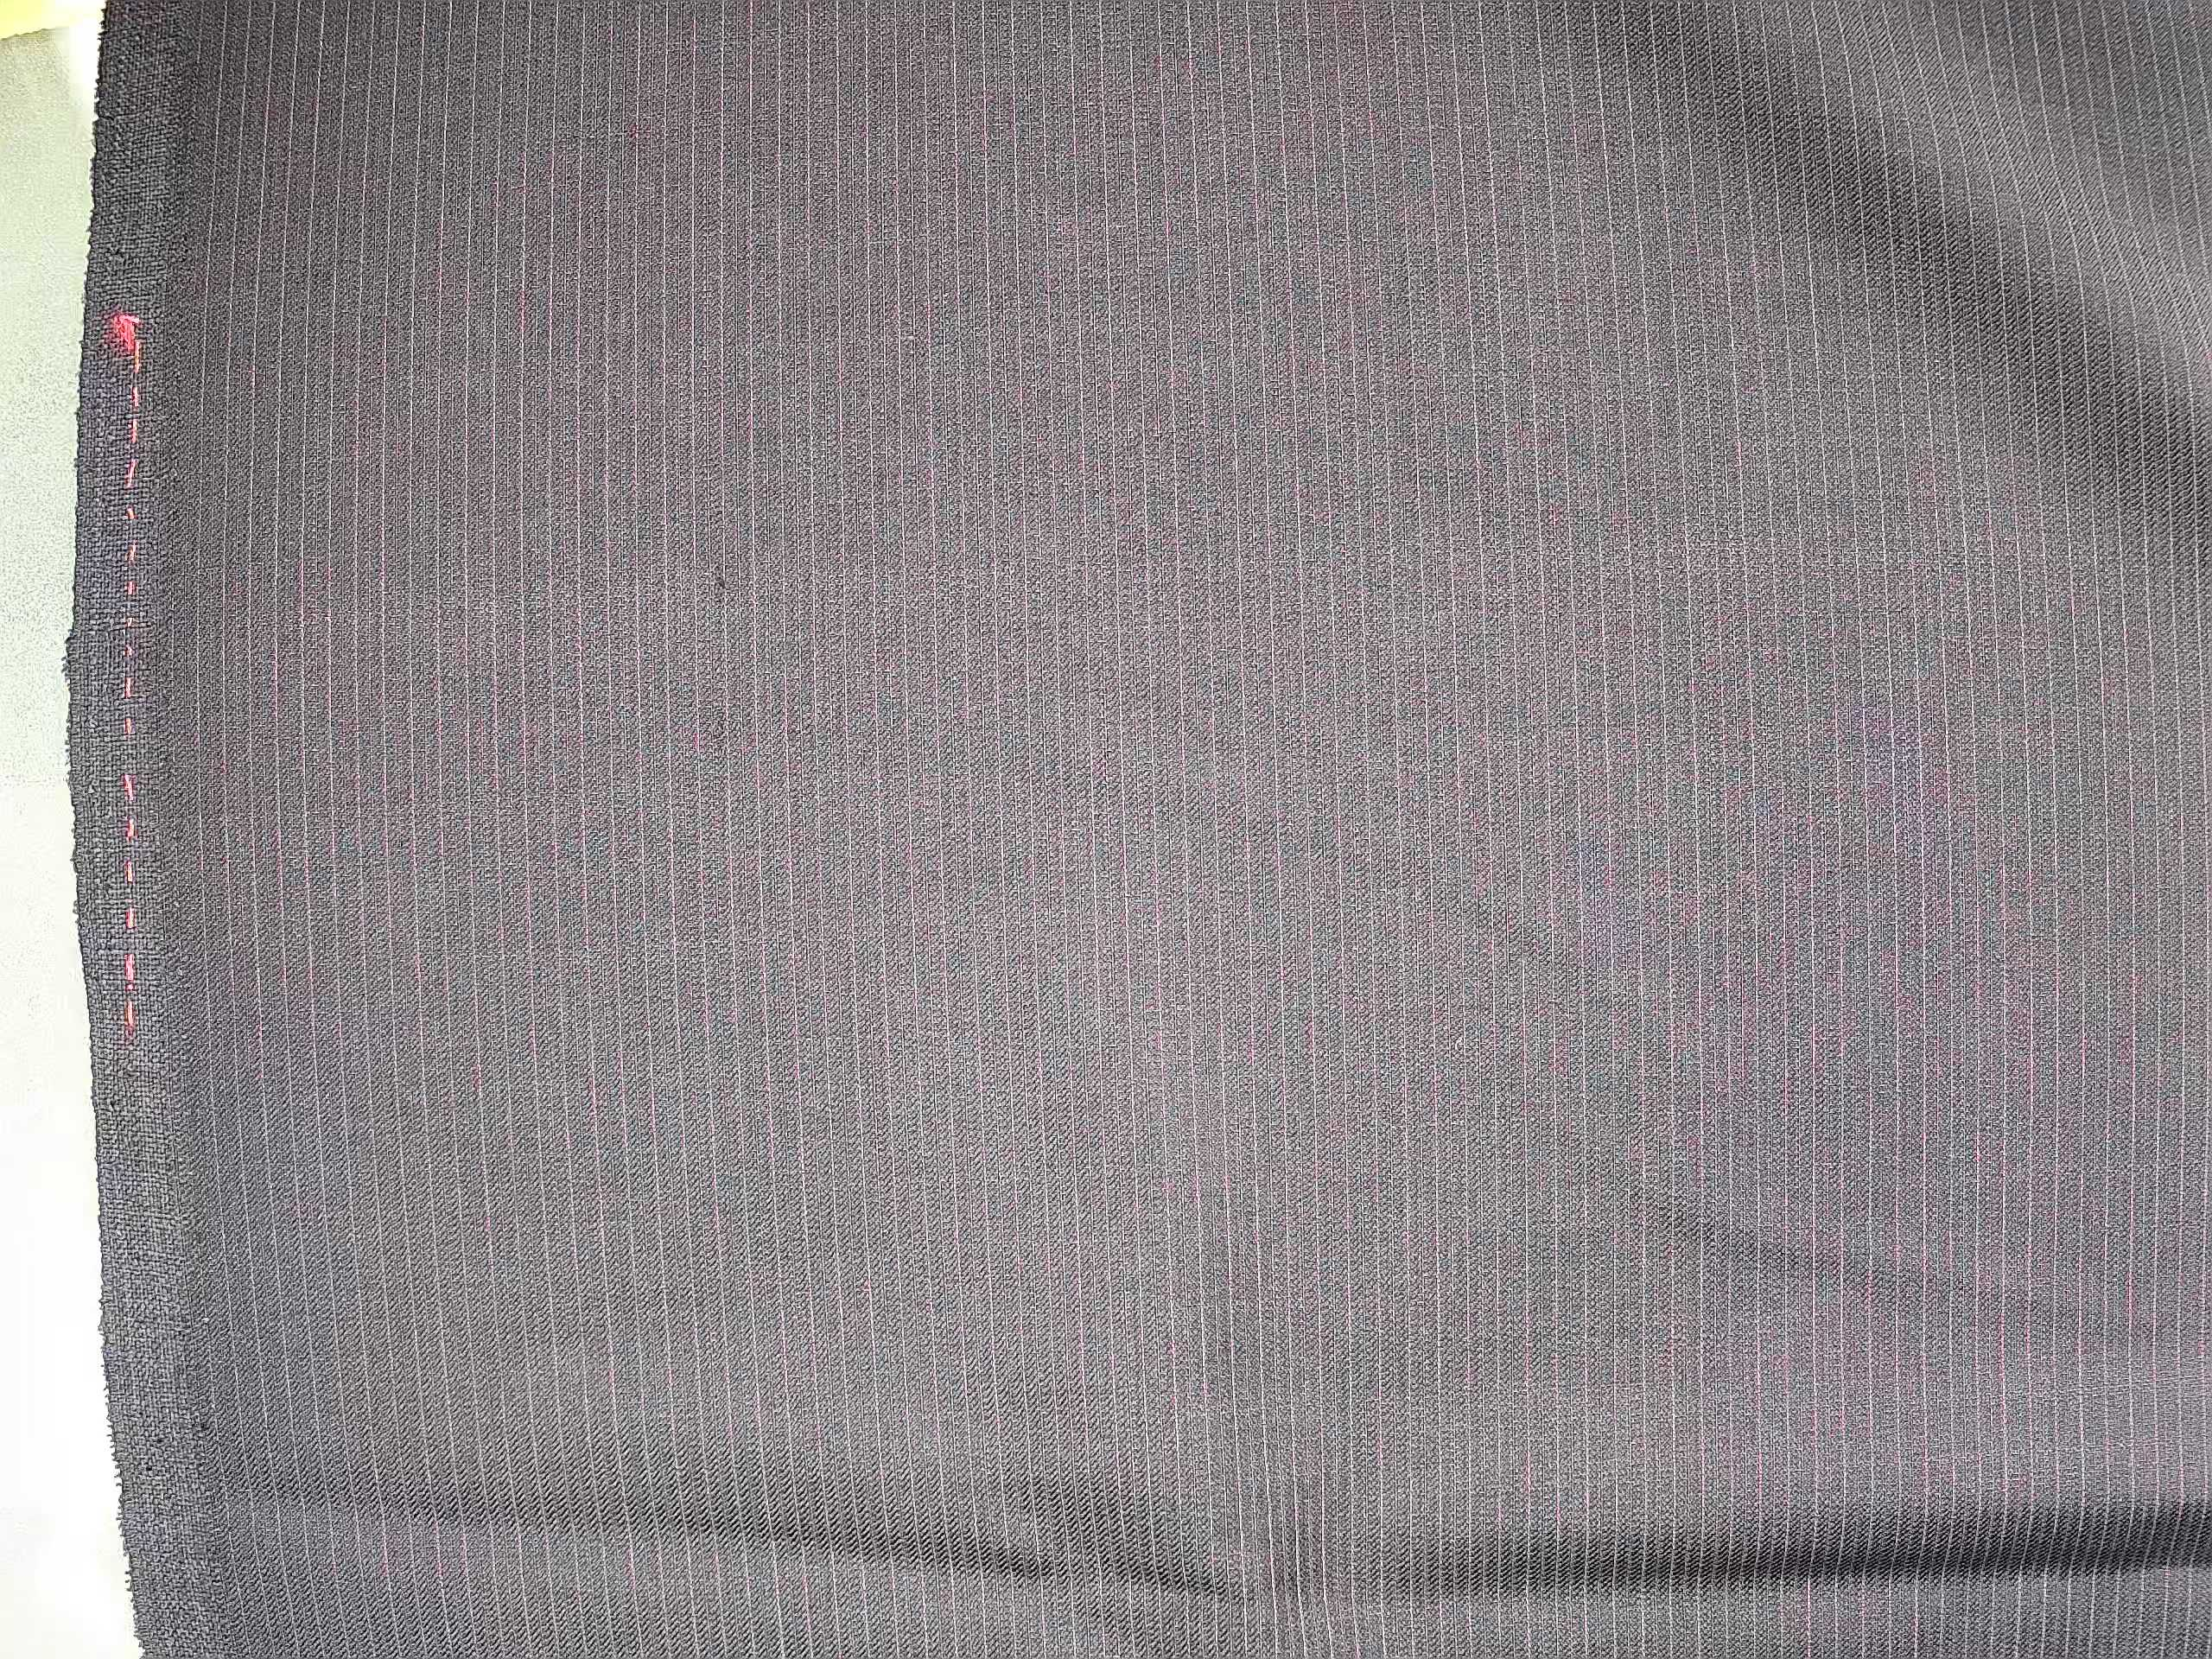thin-spinning: (671, 538, 768, 786)
